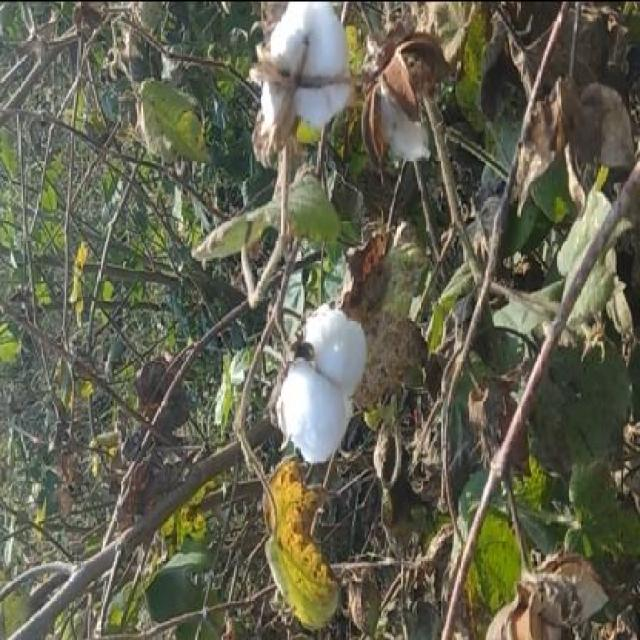cotton_ready: (270, 271, 358, 489), (253, 1, 369, 164)
